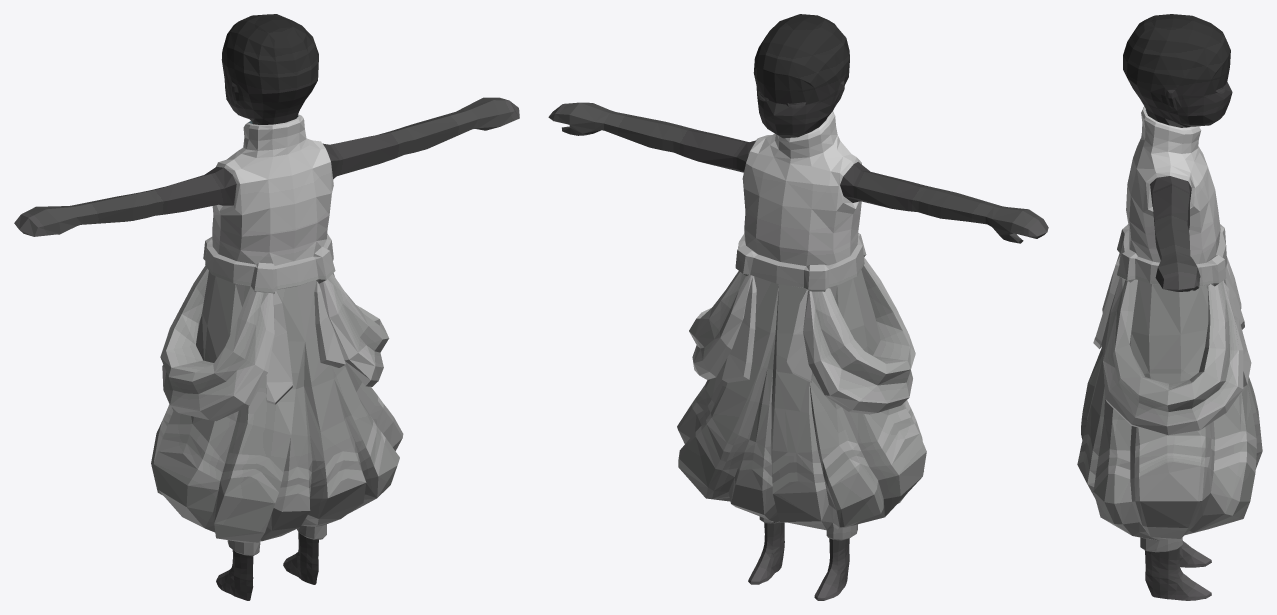
The model's file is CharSkyKid_Body_AP25BigPants.glb.
3 views of the same model, side by side, from view 1: azimuth 30°, elevation 25°; view 2: azimuth 150°, elevation 25°; view 3: azimuth 270°, elevation 25° (orthographic).
Visible parts, largest first — view 1: CharSkyKid_Body_AP25BigPants; view 2: CharSkyKid_Body_AP25BigPants; view 3: CharSkyKid_Body_AP25BigPants.
Part boxes in pixels (<box>): CharSkyKid_Body_AP25BigPants: <box>14,14,519,600</box>; CharSkyKid_Body_AP25BigPants: <box>548,14,1048,600</box>; CharSkyKid_Body_AP25BigPants: <box>1077,14,1262,600</box>.
Size of the model in its own units: 13.83 by 14.95 by 4.47.
1 material, 1 textured.
